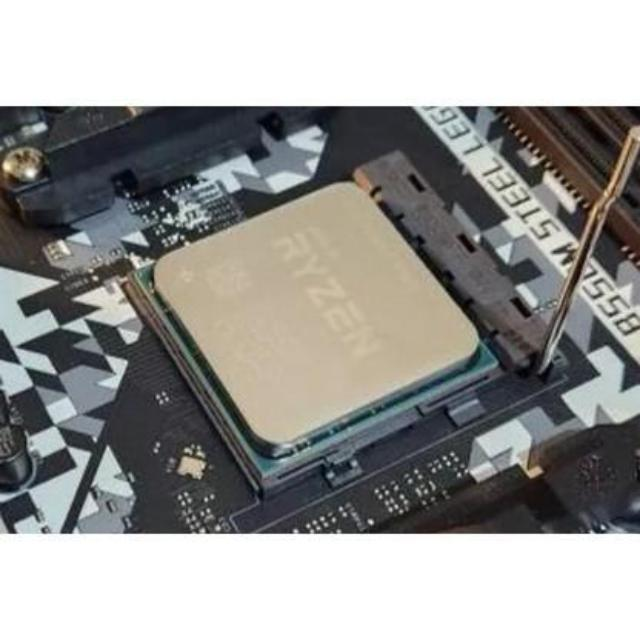CPU: (146, 179, 478, 461)
